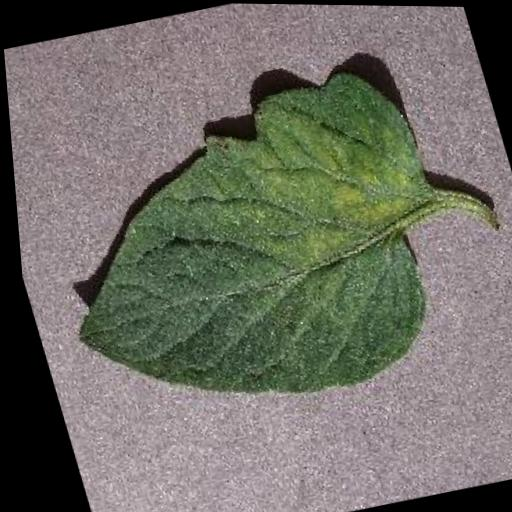Spider Mites: (9, 57, 478, 440)
